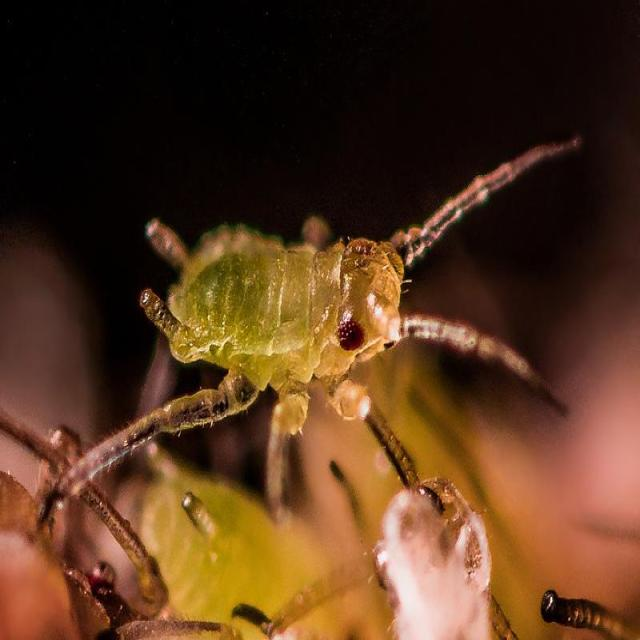Aphids: (61, 123, 596, 522)
